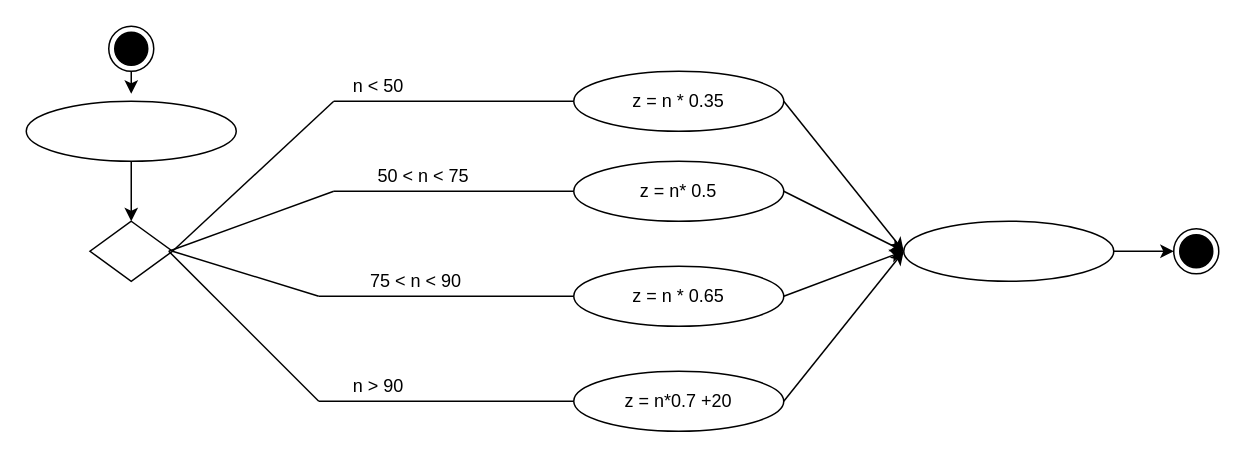
The diagram is 1245 pixels wide and 458 high, and some of its shapes have lost their labels. Here are the shapes that lost their labels. From the top down, the centre of each, then its label:
the point at 130,130: input n
the point at 1008,250: print n
